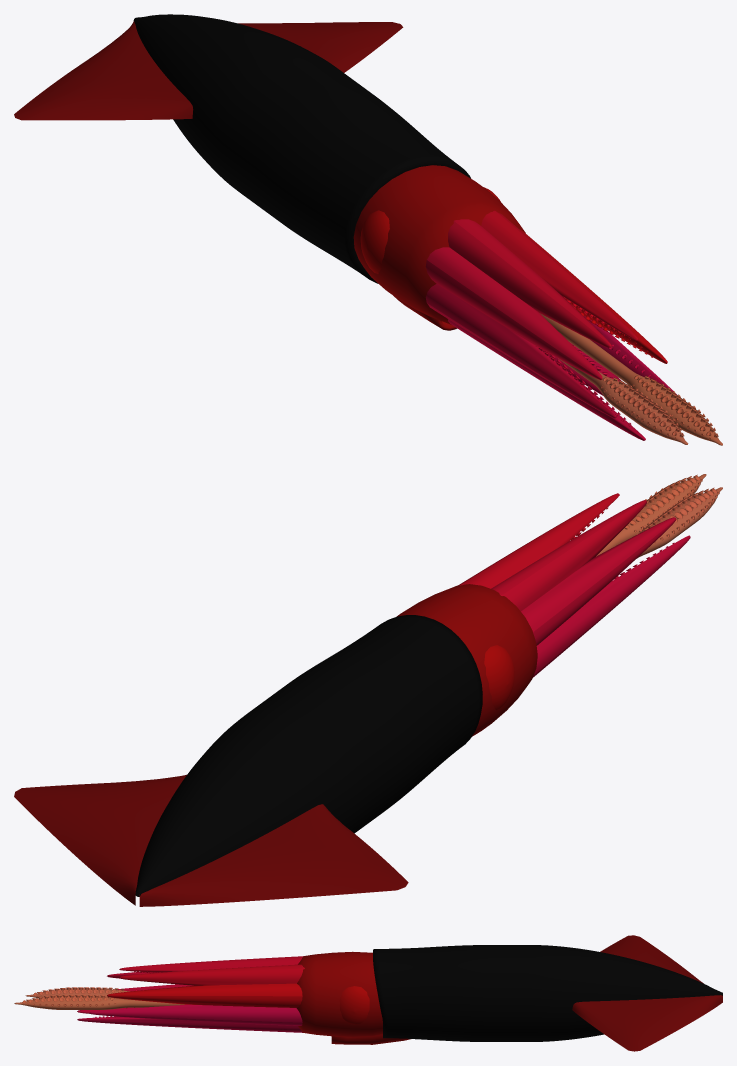
File: humboldt_squid.glb
3 views of the same model, one above another, from view 1: azimuth 30°, elevation 25°; view 2: azimuth 150°, elevation 25°; view 3: azimuth 270°, elevation 25° (orthographic). The views are drawn at different scales.
Visible parts, largest first — view 1: humboldt_squid; view 2: humboldt_squid; view 3: humboldt_squid.
Part boxes in pixels (x1,y1,x2,y2): humboldt_squid: (14, 14, 722, 445); humboldt_squid: (14, 474, 722, 906); humboldt_squid: (14, 935, 722, 1051).
Bounding box in the file's own units: 0.9656 × 0.3619 × 2.49.
